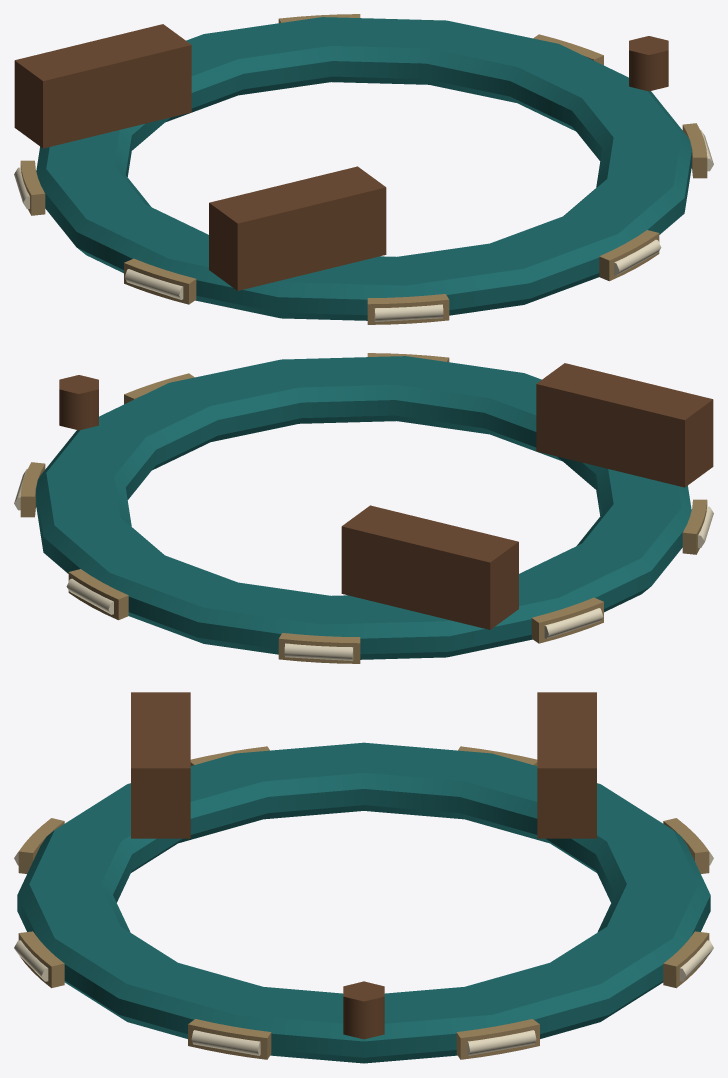
The model's file is k1_mount.obj.
The picture shows the model from 3 angles, top to bottom: view 1: azimuth 30°, elevation 25°; view 2: azimuth 150°, elevation 25°; view 3: azimuth 270°, elevation 25°; orthographic projection. The views are drawn at different scales.
Parts seen in each view (by area): view 1: k1_mount; view 2: k1_mount; view 3: k1_mount.
Part boxes in pixels (left/top/right/bottom): k1_mount: left=14, top=14, right=713, bottom=324; k1_mount: left=14, top=353, right=713, bottom=663; k1_mount: left=14, top=692, right=713, bottom=1063.
Bounding box in the file's own units: 1.2 × 0.2 × 1.17.
